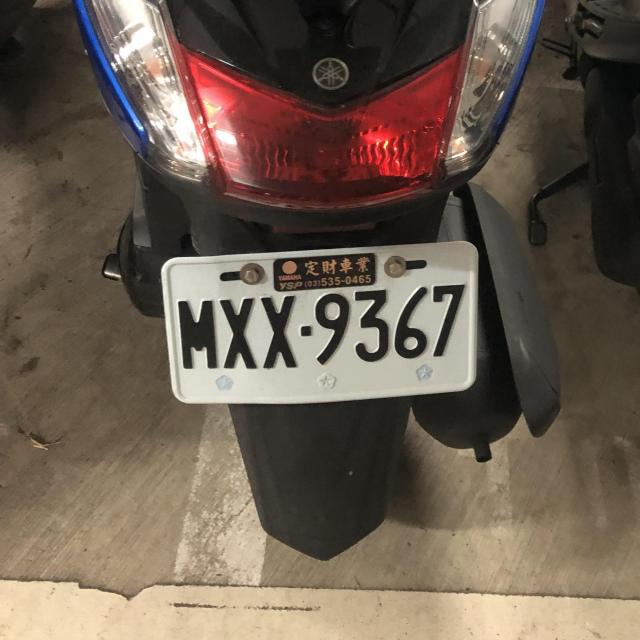W: (157, 235, 486, 411)
